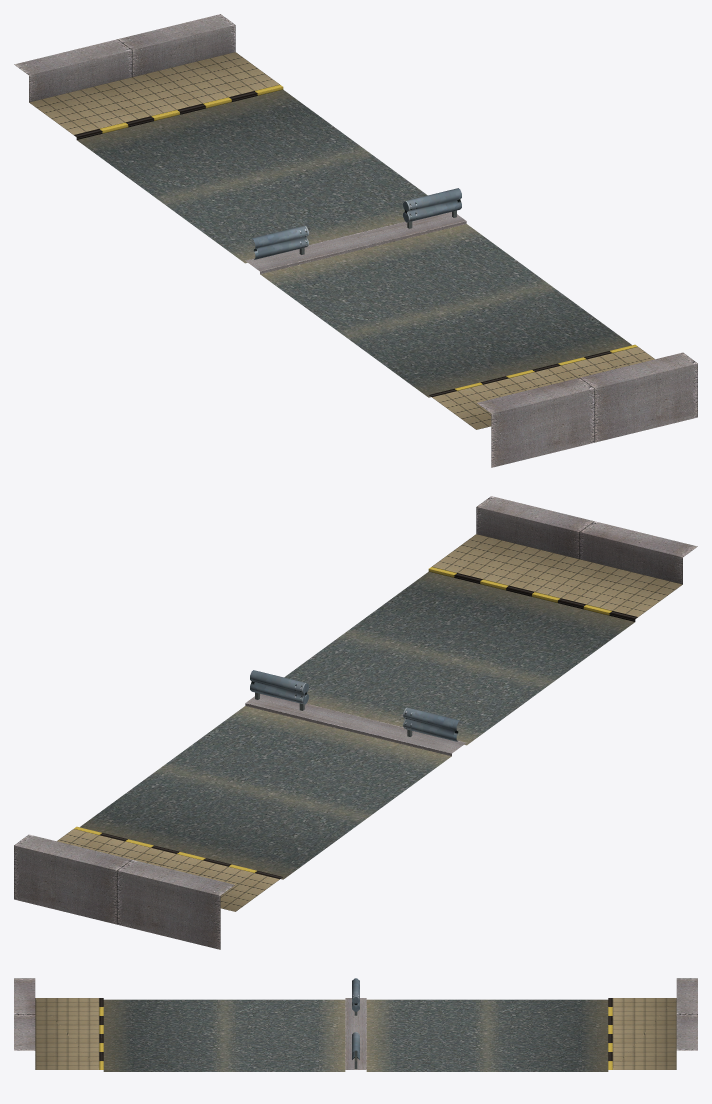
The model's file is M2Z4_FlyOver_Gap.glb.
3 renders of one model, top to bottom at view 1: azimuth 30°, elevation 25°; view 2: azimuth 150°, elevation 25°; view 3: azimuth 270°, elevation 25°, orthographic. The views are drawn at different scales.
Parts seen in each view (by area): view 1: M2Z4_FLYOVER_GAP; view 2: M2Z4_FLYOVER_GAP; view 3: M2Z4_FLYOVER_GAP.
Boxes of the visible parts, box(x1,y1,x2,y2) form: M2Z4_FLYOVER_GAP: box(14, 14, 697, 467); M2Z4_FLYOVER_GAP: box(14, 496, 697, 949); M2Z4_FLYOVER_GAP: box(14, 978, 697, 1071).
Size of the model in its own units: 8 by 2 by 32.
6 materials, 6 textured.
